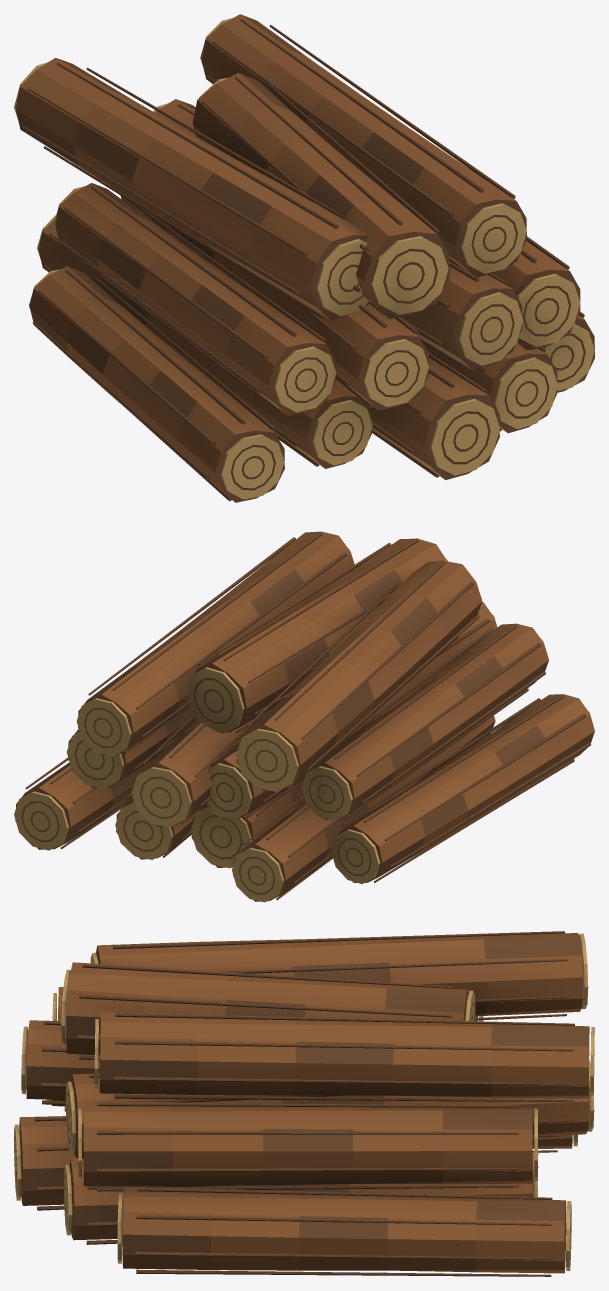
The picture shows the model from 3 angles, top to bottom: view 1: azimuth 30°, elevation 25°; view 2: azimuth 150°, elevation 25°; view 3: azimuth 270°, elevation 25°; orthographic projection. The views are drawn at different scales.
Parts seen in each view (by area): view 1: log-stack; view 2: log-stack; view 3: log-stack.
Part boxes in pixels (left/top/right/bottom): log-stack: left=14, top=14, right=594, bottom=502; log-stack: left=14, top=531, right=594, bottom=902; log-stack: left=14, top=931, right=594, bottom=1276.
Size of the model in its own units: 1.93 by 1.03 by 2.4.
